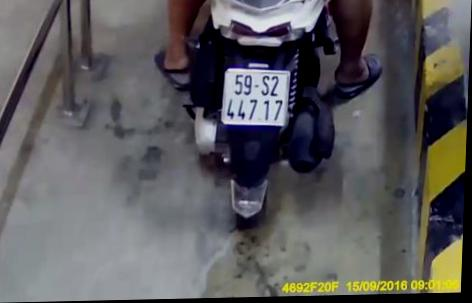License_Plate: (215, 63, 297, 134)
